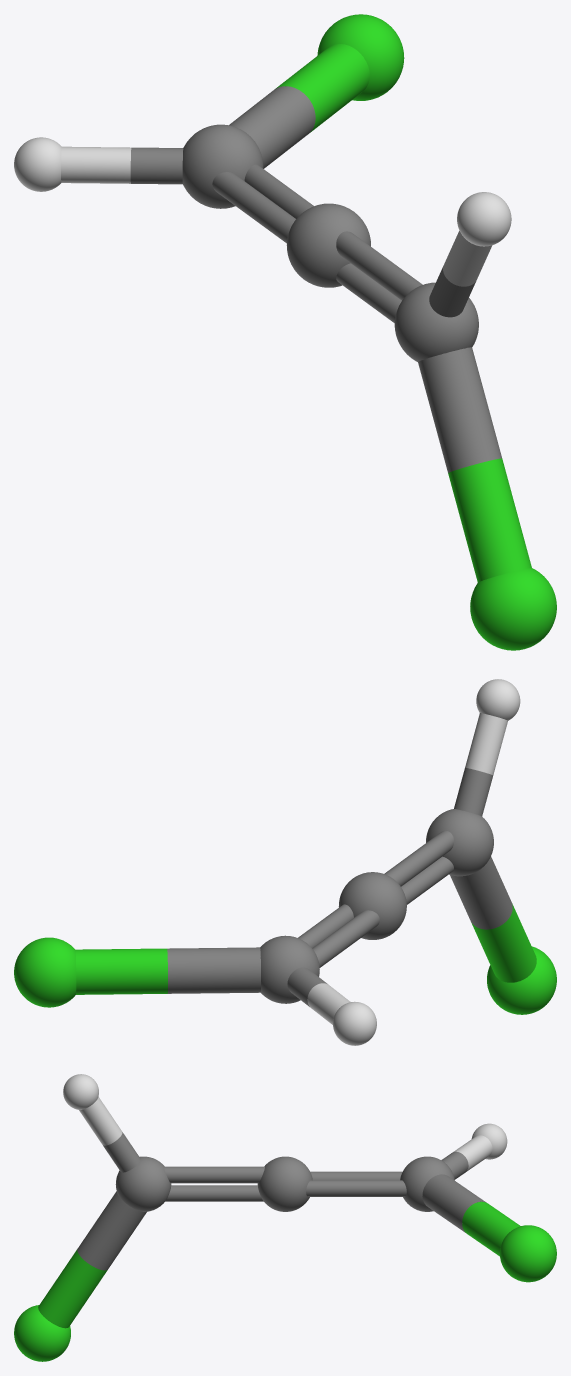
The model's file is R13DICHLOROPROPA12DIENE.MOL2.glb.
3 renders of one model, top to bottom at view 1: azimuth 30°, elevation 25°; view 2: azimuth 150°, elevation 25°; view 3: azimuth 270°, elevation 25°, orthographic. The views are drawn at different scales.
Bounding box in the file's own units: 2.86 × 2.87 × 4.99.
